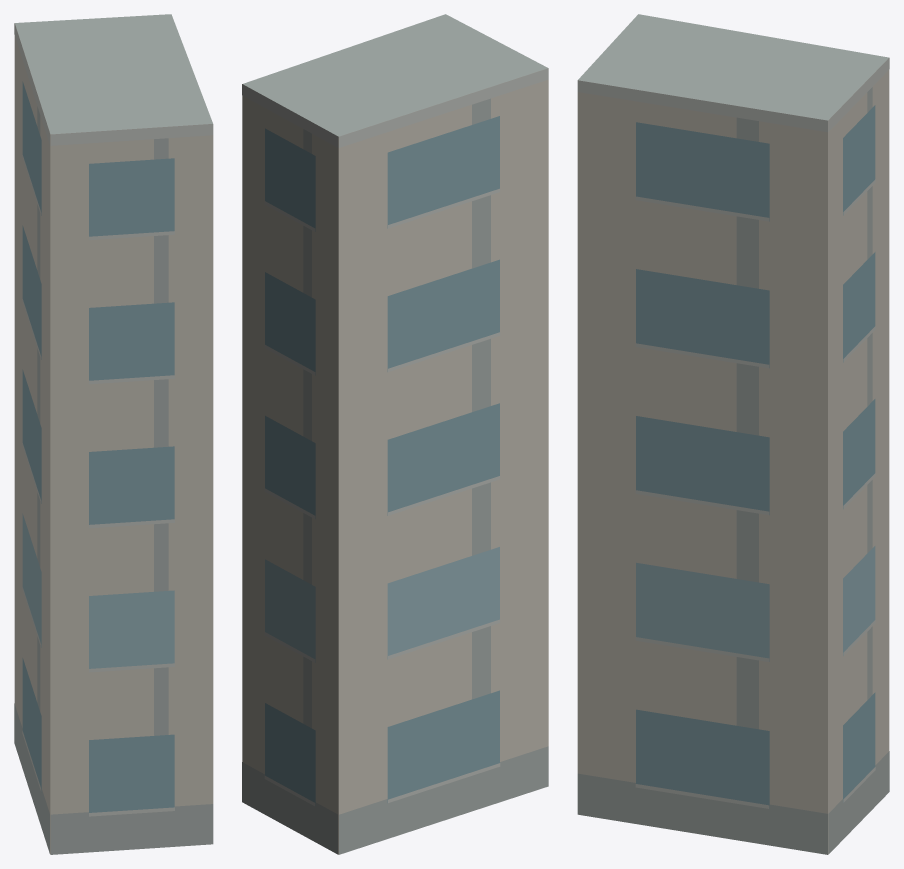
File: survey-upis-32901321.glb
3 views of the same model, side by side, from view 1: azimuth 30°, elevation 25°; view 2: azimuth 150°, elevation 25°; view 3: azimuth 270°, elevation 25° (orthographic). The views are drawn at different scales.
Visible parts, largest first — view 1: survey-upis-32901321.tmp; view 2: survey-upis-32901321.tmp; view 3: survey-upis-32901321.tmp.
Part boxes in pixels (left/top/right/bottom): survey-upis-32901321.tmp: left=14, top=14, right=213, bottom=854; survey-upis-32901321.tmp: left=242, top=14, right=548, bottom=854; survey-upis-32901321.tmp: left=577, top=14, right=889, bottom=854.
Size of the model in its own units: 4.75 by 15.25 by 5.88.
